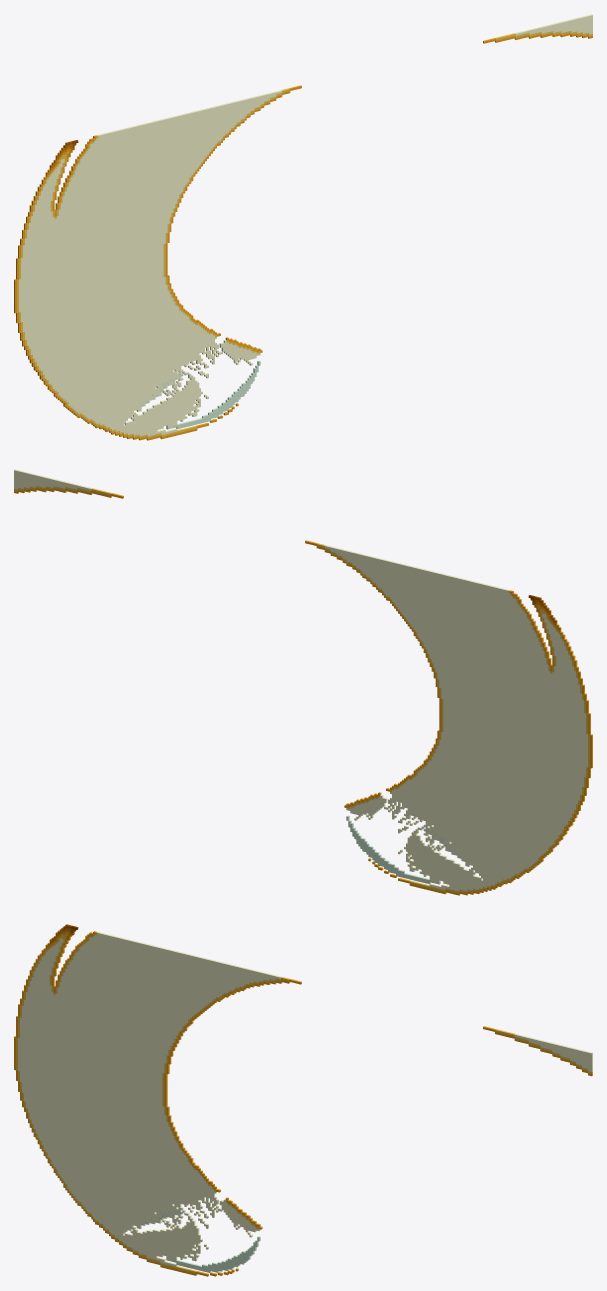
The model's file is Fight_103_2_11_fx.obj.
3 renders of one model, top to bottom at view 1: azimuth 30°, elevation 25°; view 2: azimuth 150°, elevation 25°; view 3: azimuth 330°, elevation 25°, orthographic.
Bounding box in the file's own units: 29.2 × 15.4 × 0.1.
Materials: 1 (1 with a texture image).
